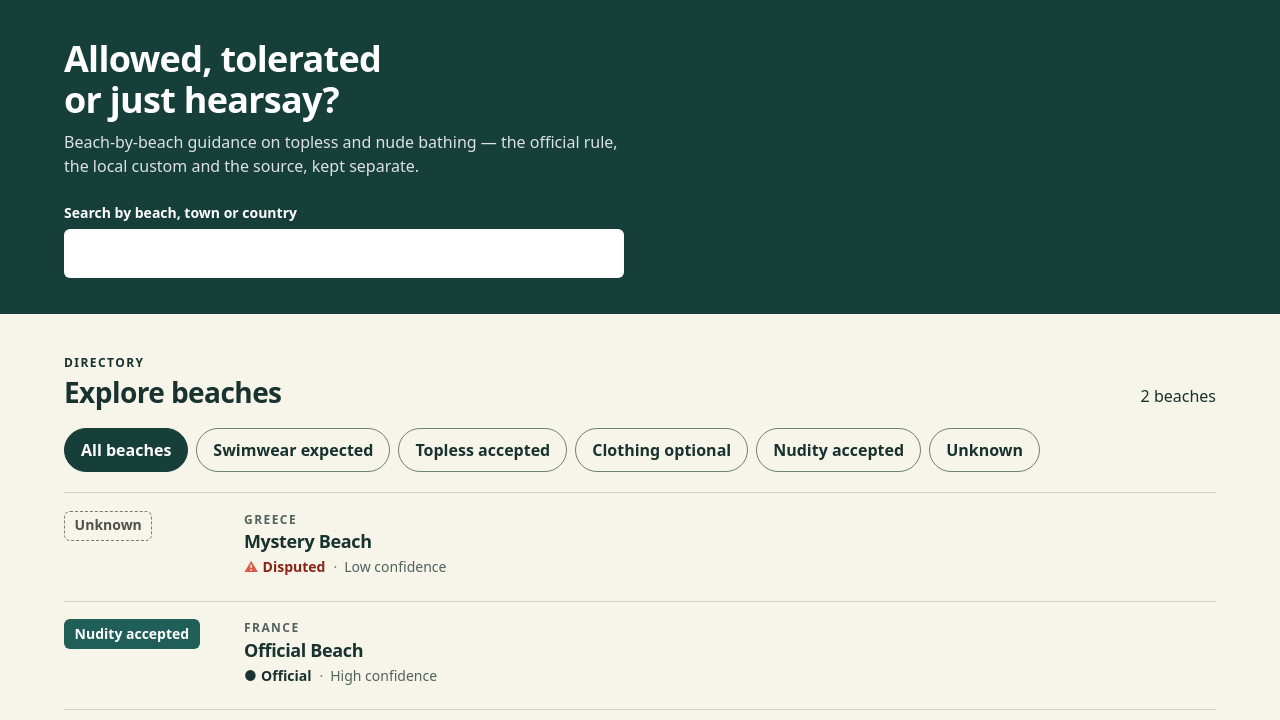
Scenario: HomePage › loads the directory and exposes the unknown classification filter
Expected: the link "Mystery Beach" is shown, [244,529,372,553]
Expected: the link "Official Beach" is shown, [244,638,363,662]
Click the button "Unknown".
click(985, 450)  # box [929,428,1040,472]
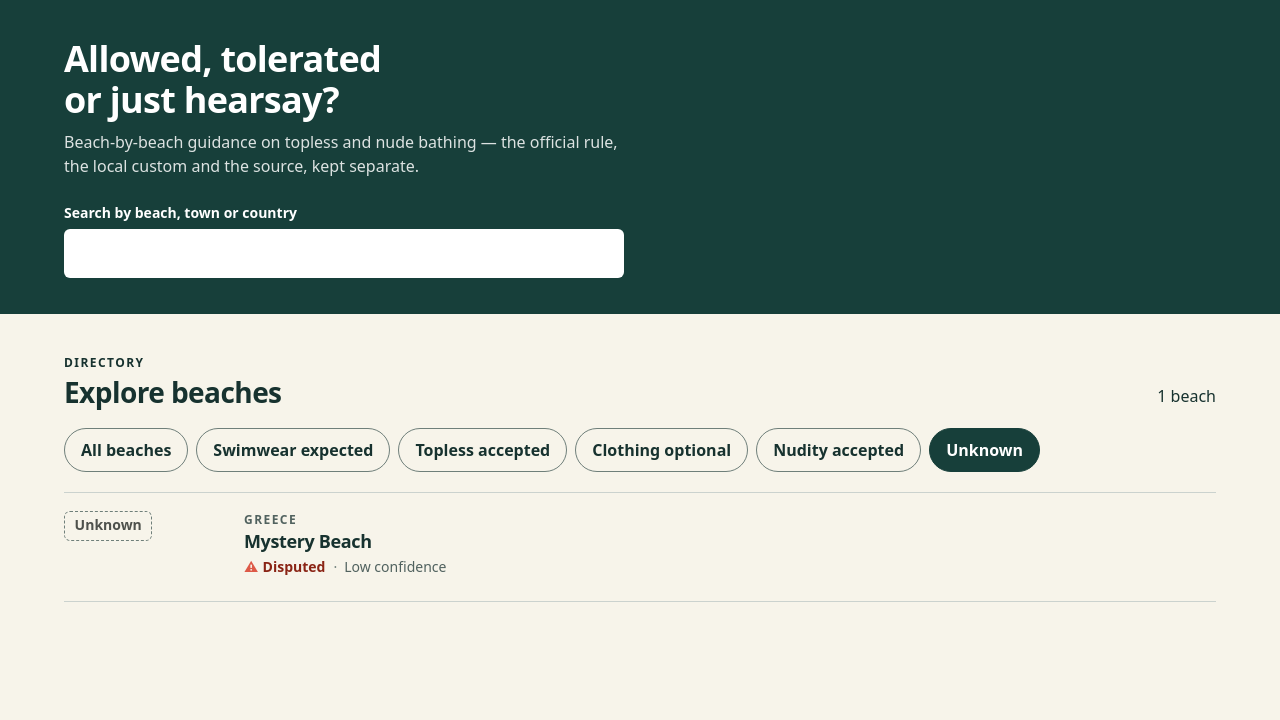
Expected: the link "Mystery Beach" is shown, [244,529,372,553]
Result: the link "Official Beach" is gone
